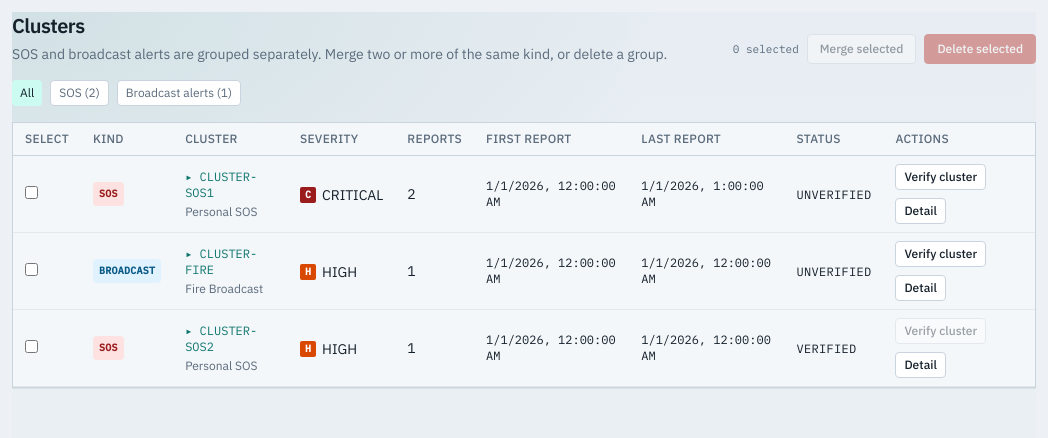
ClustersPage kinds and bulk actions › blocks a mixed SOS + broadcast merge
Step 1. Click the checkbox named "select CLUSTER-SOS1" → (32, 192), box [25,186,38,199]
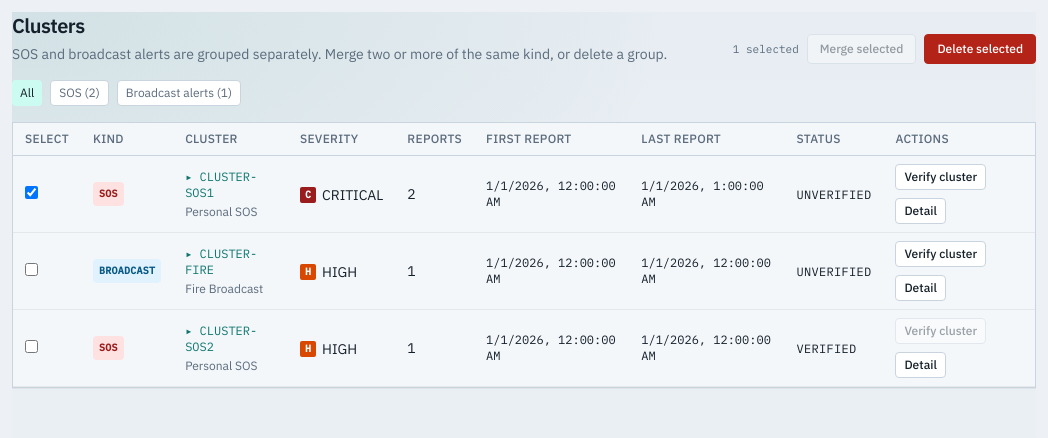
Step 2. Click the checkbox named "select CLUSTER-FIRE" → (32, 270), box [25,263,38,276]
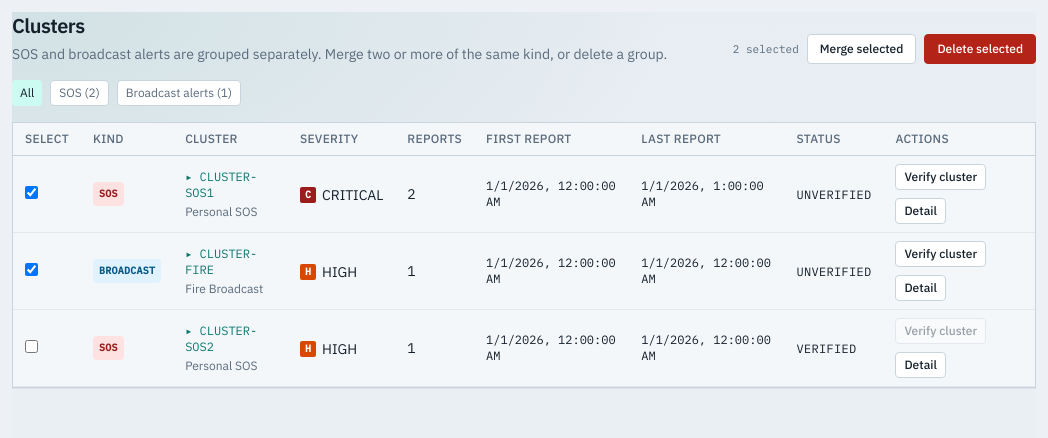
Step 3. Click the button "Merge selected" → (862, 49), box [807,34,916,64]
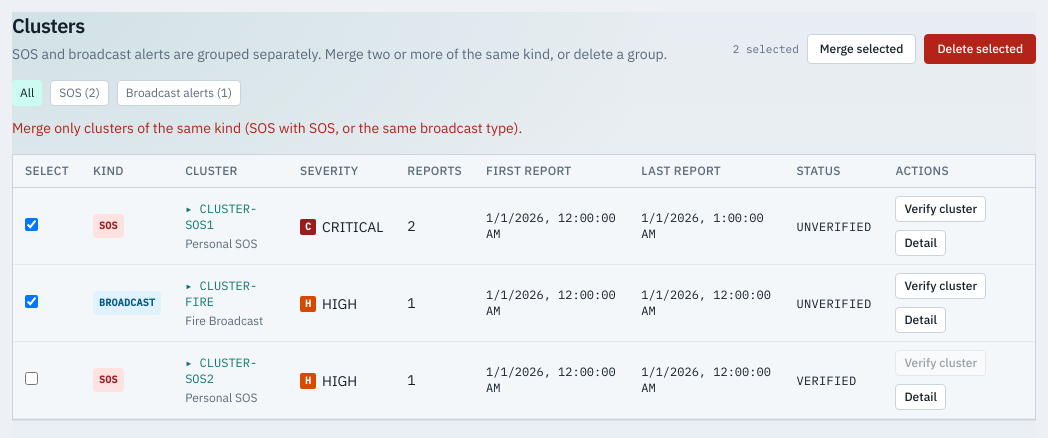
Now the message shows "same kind", box [12,119,522,137]
